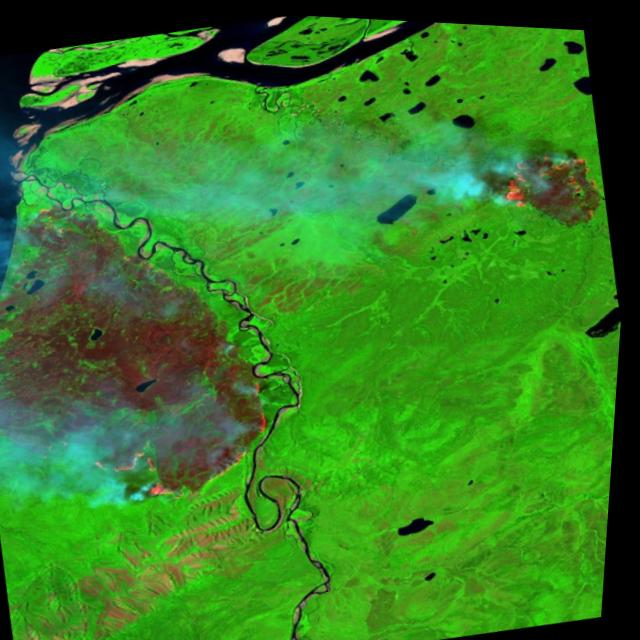fire: (81, 365, 296, 513), (496, 133, 611, 216)
